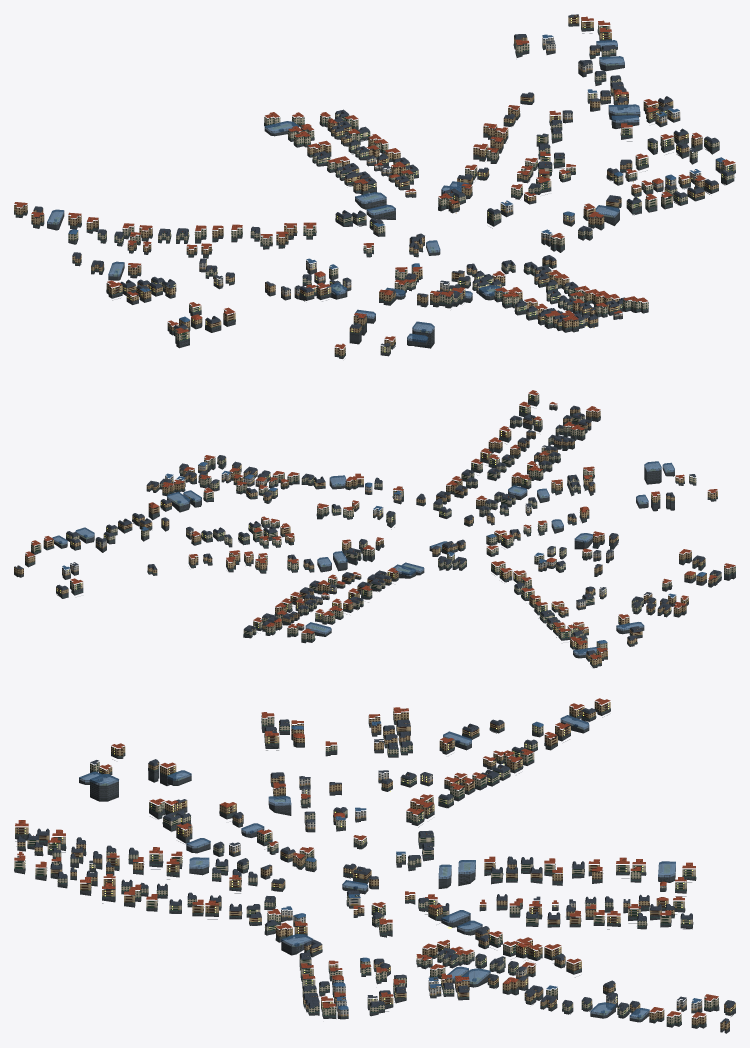
File: osm_buildings_T_W02_N02_Q2.glb
3 renders of one model, top to bottom at view 1: azimuth 30°, elevation 25°; view 2: azimuth 150°, elevation 25°; view 3: azimuth 270°, elevation 25°, orthographic. The views are drawn at different scales.
Visible parts, largest first — view 1: OSM_T_W02_N02_Q2_foundation, OSM_T_W02_N02_Q2_wall_french_ochre, OSM_T_W02_N02_Q2_wall_cream_stucco, OSM_T_W02_N02_Q2_roof_terracotta, OSM_T_W02_N02_Q2_roof_mansard_slate, OSM_T_W02_N02_Q2_greenhouse_blend, OSM_T_W02_N02_Q2_roof_mansard_deck, OSM_T_W02_N02_Q2_roof_mint_metal, OSM_T_W02_N02_Q2_wall_warm_white, OSM_T_W02_N02_Q2_trim_cornice, OSM_T_W02_N02_Q2_balcony_railing, OSM_T_W02_N02_Q2_roof_alpine_blue; view 2: OSM_T_W02_N02_Q2_foundation, OSM_T_W02_N02_Q2_wall_french_ochre, OSM_T_W02_N02_Q2_wall_cream_stucco, OSM_T_W02_N02_Q2_roof_terracotta, OSM_T_W02_N02_Q2_roof_mansard_slate, OSM_T_W02_N02_Q2_greenhouse_blend, OSM_T_W02_N02_Q2_roof_mansard_deck, OSM_T_W02_N02_Q2_roof_mint_metal, OSM_T_W02_N02_Q2_wall_warm_white, OSM_T_W02_N02_Q2_trim_cornice, OSM_T_W02_N02_Q2_balcony_railing, OSM_T_W02_N02_Q2_roof_alpine_blue; view 3: OSM_T_W02_N02_Q2_foundation, OSM_T_W02_N02_Q2_wall_french_ochre, OSM_T_W02_N02_Q2_wall_cream_stucco, OSM_T_W02_N02_Q2_roof_terracotta, OSM_T_W02_N02_Q2_roof_mansard_slate, OSM_T_W02_N02_Q2_greenhouse_blend, OSM_T_W02_N02_Q2_roof_mansard_deck, OSM_T_W02_N02_Q2_roof_mint_metal, OSM_T_W02_N02_Q2_trim_cornice, OSM_T_W02_N02_Q2_wall_warm_white, OSM_T_W02_N02_Q2_balcony_railing, OSM_T_W02_N02_Q2_roof_alpine_blue (+1 smaller).
Boxes of the visible parts, x1=… form: OSM_T_W02_N02_Q2_foundation: x1=14, y1=23, x2=735, y2=358; OSM_T_W02_N02_Q2_wall_french_ochre: x1=14, y1=15, x2=718, y2=356; OSM_T_W02_N02_Q2_wall_cream_stucco: x1=68, y1=23, x2=735, y2=353; OSM_T_W02_N02_Q2_roof_terracotta: x1=14, y1=16, x2=735, y2=348; OSM_T_W02_N02_Q2_roof_mansard_slate: x1=33, y1=14, x2=733, y2=346; OSM_T_W02_N02_Q2_greenhouse_blend: x1=47, y1=40, x2=640, y2=342; OSM_T_W02_N02_Q2_roof_mansard_deck: x1=35, y1=34, x2=731, y2=342; OSM_T_W02_N02_Q2_roof_mint_metal: x1=14, y1=28, x2=735, y2=356; OSM_T_W02_N02_Q2_wall_warm_white: x1=199, y1=42, x2=724, y2=316; OSM_T_W02_N02_Q2_trim_cornice: x1=15, y1=15, x2=733, y2=354; OSM_T_W02_N02_Q2_balcony_railing: x1=17, y1=23, x2=734, y2=353; OSM_T_W02_N02_Q2_roof_alpine_blue: x1=68, y1=34, x2=724, y2=322; OSM_T_W02_N02_Q2_foundation: x1=14, y1=400, x2=735, y2=668; OSM_T_W02_N02_Q2_wall_french_ochre: x1=14, y1=408, x2=717, y2=665; OSM_T_W02_N02_Q2_wall_cream_stucco: x1=31, y1=392, x2=735, y2=648; OSM_T_W02_N02_Q2_roof_terracotta: x1=25, y1=390, x2=735, y2=659; OSM_T_W02_N02_Q2_roof_mansard_slate: x1=14, y1=406, x2=721, y2=655; OSM_T_W02_N02_Q2_greenhouse_blend: x1=52, y1=461, x2=674, y2=655; OSM_T_W02_N02_Q2_roof_mansard_deck: x1=57, y1=405, x2=720, y2=654; OSM_T_W02_N02_Q2_roof_mint_metal: x1=25, y1=402, x2=735, y2=665; OSM_T_W02_N02_Q2_wall_warm_white: x1=70, y1=404, x2=613, y2=628; OSM_T_W02_N02_Q2_trim_cornice: x1=20, y1=407, x2=732, y2=663; OSM_T_W02_N02_Q2_balcony_railing: x1=31, y1=396, x2=734, y2=662; OSM_T_W02_N02_Q2_roof_alpine_blue: x1=62, y1=462, x2=706, y2=643; OSM_T_W02_N02_Q2_foundation: x1=14, y1=709, x2=735, y2=1033; OSM_T_W02_N02_Q2_wall_french_ochre: x1=15, y1=701, x2=735, y2=1030; OSM_T_W02_N02_Q2_wall_cream_stucco: x1=14, y1=715, x2=718, y2=1024; OSM_T_W02_N02_Q2_roof_terracotta: x1=14, y1=698, x2=718, y2=1017; OSM_T_W02_N02_Q2_roof_mansard_slate: x1=17, y1=709, x2=735, y2=1023; OSM_T_W02_N02_Q2_greenhouse_blend: x1=79, y1=715, x2=675, y2=1019; OSM_T_W02_N02_Q2_roof_mansard_deck: x1=18, y1=708, x2=733, y2=1019; OSM_T_W02_N02_Q2_roof_mint_metal: x1=14, y1=708, x2=735, y2=1026; OSM_T_W02_N02_Q2_trim_cornice: x1=14, y1=701, x2=731, y2=1023; OSM_T_W02_N02_Q2_wall_warm_white: x1=17, y1=772, x2=686, y2=1016; OSM_T_W02_N02_Q2_balcony_railing: x1=16, y1=704, x2=734, y2=1018; OSM_T_W02_N02_Q2_roof_alpine_blue: x1=281, y1=721, x2=701, y2=1009.
Size of the model in its own units: 995 by 89.59 by 931.
Materials: 16 (16 with a texture image).
